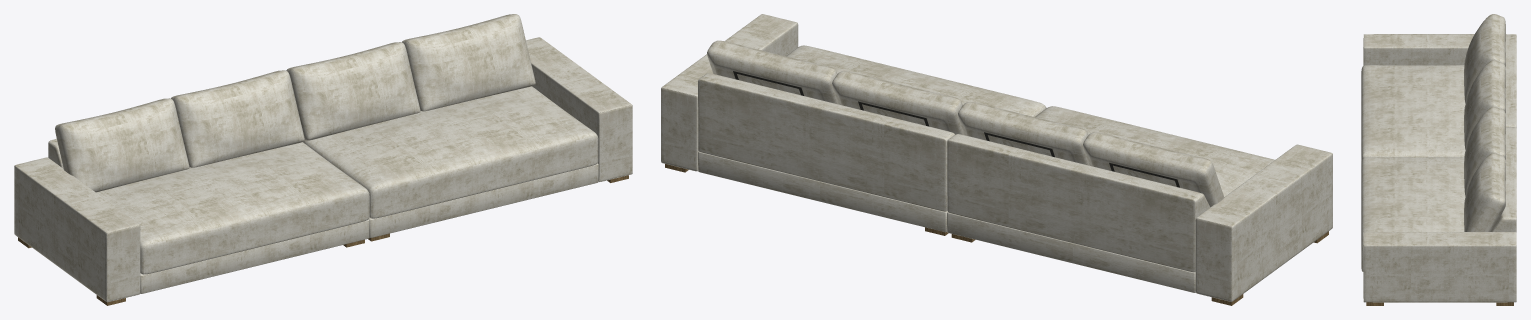
Rendered from sofa.dae.
3 renders of one model, left to right at view 1: azimuth 30°, elevation 25°; view 2: azimuth 150°, elevation 25°; view 3: azimuth 270°, elevation 25°, orthographic. The views are drawn at different scales.
Parts seen in each view (by area): view 1: Component_23 (×4), Component_15, Component_15_1_2, Component_2_1_2, Component_2, Component_4, Component_4_1_2; view 2: Component_3_1_2, Component_3, Component_23 (×4), Component_2_1_2, Component_2, Component_4, Component_4_1_2, Component_15_1_2, Component_15; view 3: Component_2, Component_15_1_2, Component_23 (×4), Component_15, Component_2_1_2, Component_3, Component_3_1_2.
Part boxes in pixels (x1,y1,x2,y2): Component_23 (×4): [55, 14, 535, 192]; Component_15: [303, 86, 598, 218]; Component_15_1_2: [96, 142, 369, 274]; Component_2_1_2: [14, 157, 140, 301]; Component_2: [526, 37, 632, 181]; Component_4: [369, 163, 598, 237]; Component_4_1_2: [140, 219, 369, 293]; Component_3_1_2: [947, 134, 1210, 272]; Component_3: [698, 73, 954, 211]; Component_23 (×4): [707, 40, 1224, 206]; Component_2_1_2: [1196, 144, 1332, 301]; Component_2: [661, 14, 797, 171]; Component_4: [698, 151, 947, 232]; Component_4_1_2: [947, 212, 1195, 292]; Component_15_1_2: [1035, 106, 1274, 196]; Component_15: [786, 45, 1046, 116]; Component_2: [1363, 232, 1516, 302]; Component_15_1_2: [1361, 65, 1465, 162]; Component_23 (×4): [1464, 14, 1505, 231]; Component_15: [1361, 157, 1465, 271]; Component_2_1_2: [1363, 34, 1516, 65]; Component_3: [1491, 127, 1516, 232]; Component_3_1_2: [1505, 35, 1516, 127].
Size of the model in its own units: 340 by 106 by 71.84.
